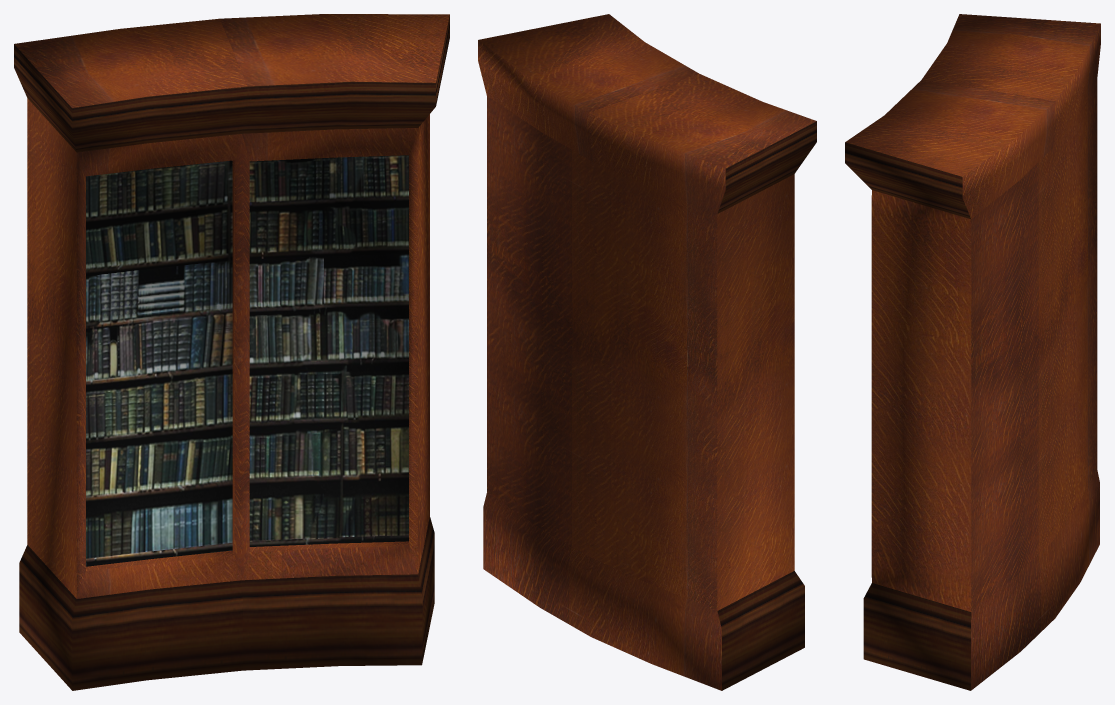
The model's file is BookcaseCurvedShortshort1.fbx.
3 renders of one model, left to right at view 1: azimuth 30°, elevation 25°; view 2: azimuth 150°, elevation 25°; view 3: azimuth 270°, elevation 25°, orthographic. The views are drawn at different scales.
Parts seen in each view (by area): view 1: Bookcaselong1.006; view 2: Bookcaselong1.006; view 3: Bookcaselong1.006.
Boxes of the visible parts, x1=… form: Bookcaselong1.006: x1=14, y1=14, x2=449, y2=690; Bookcaselong1.006: x1=478, y1=14, x2=816, y2=690; Bookcaselong1.006: x1=845, y1=14, x2=1100, y2=690.
Bounding box in the file's own units: 225 × 334 × 150.
